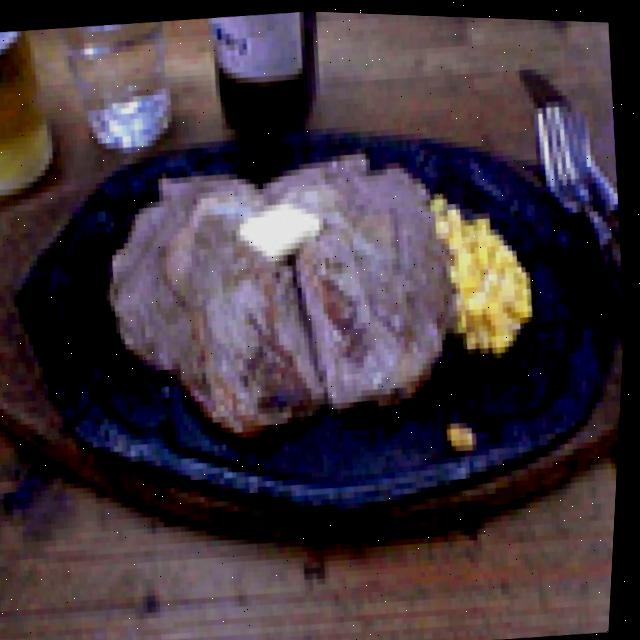牛肉菜式: (83, 118, 477, 478)
